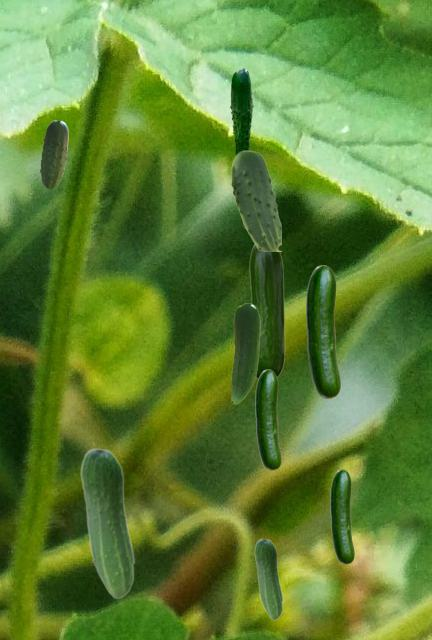cucumber: (80, 447, 134, 598), (231, 150, 280, 250), (249, 244, 284, 378), (306, 265, 339, 397), (231, 303, 259, 403), (255, 369, 280, 469), (254, 538, 282, 619), (330, 469, 353, 563), (230, 68, 252, 154), (40, 120, 67, 188)
